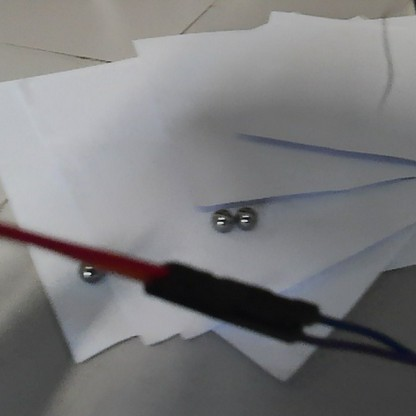ironball: (74, 260, 108, 288), (232, 203, 258, 232), (206, 207, 234, 233)
